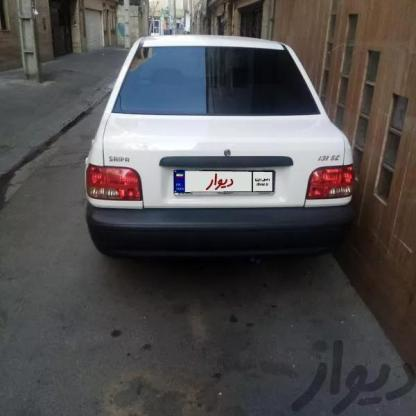Car: (87, 28, 364, 265)
